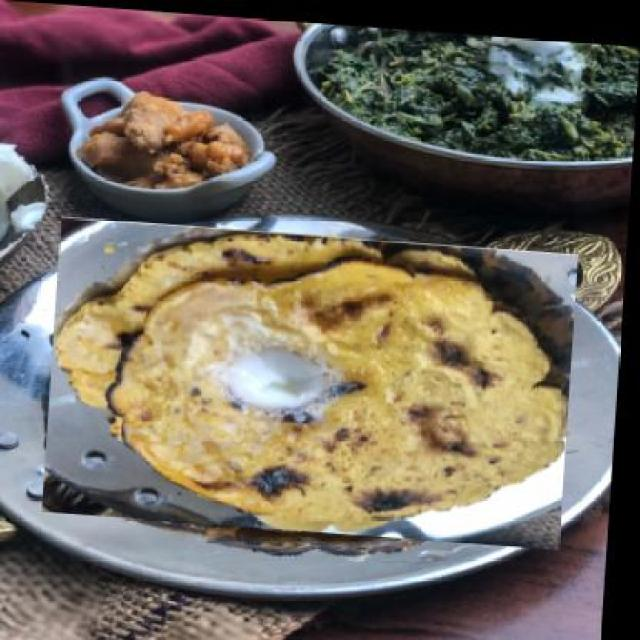chapati: (48, 216, 583, 542)
